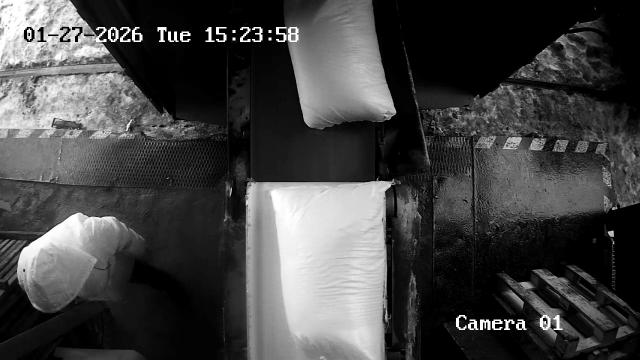bag: (271, 182, 392, 360), (284, 0, 397, 129)
